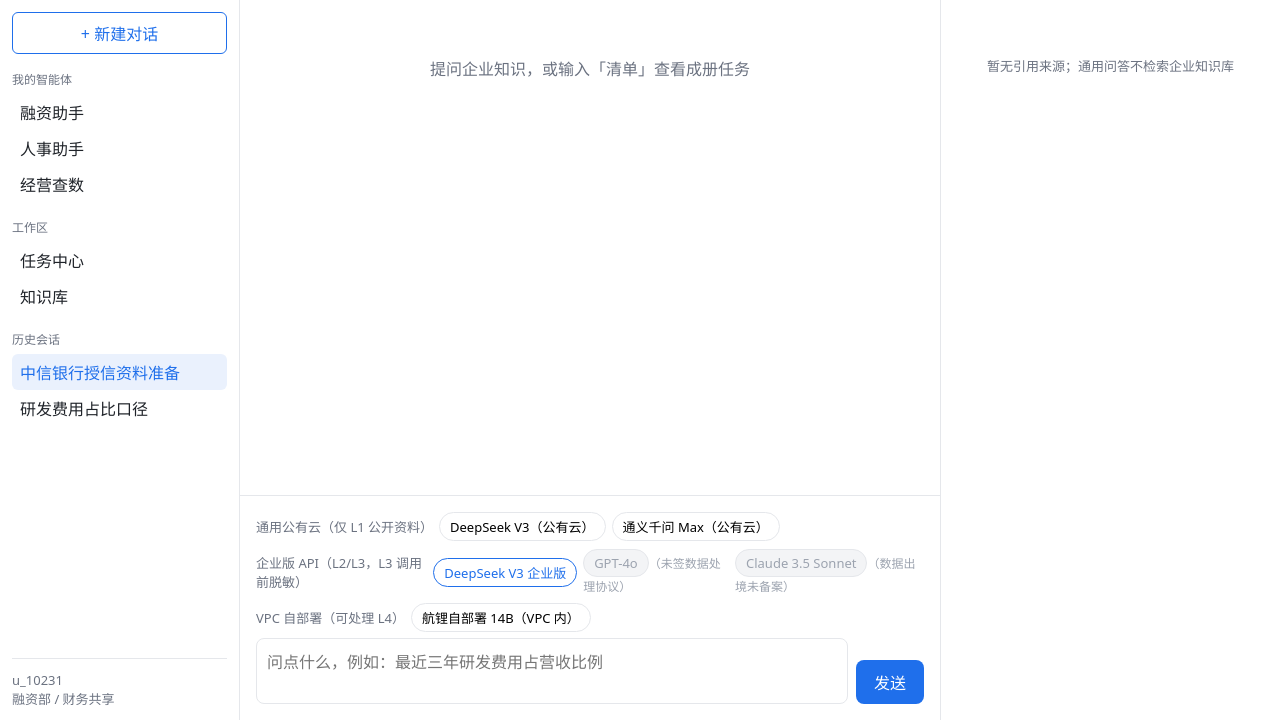
Scenario: 企业知识命中与引用溯源 › 顶部显示公司相关、检索范围与命中数
This screenshot has width=1280, height=720.
Type "最近三年研发费用占营收比例" into the text box named "输入问题" at (552, 671), box [256, 638, 848, 704]
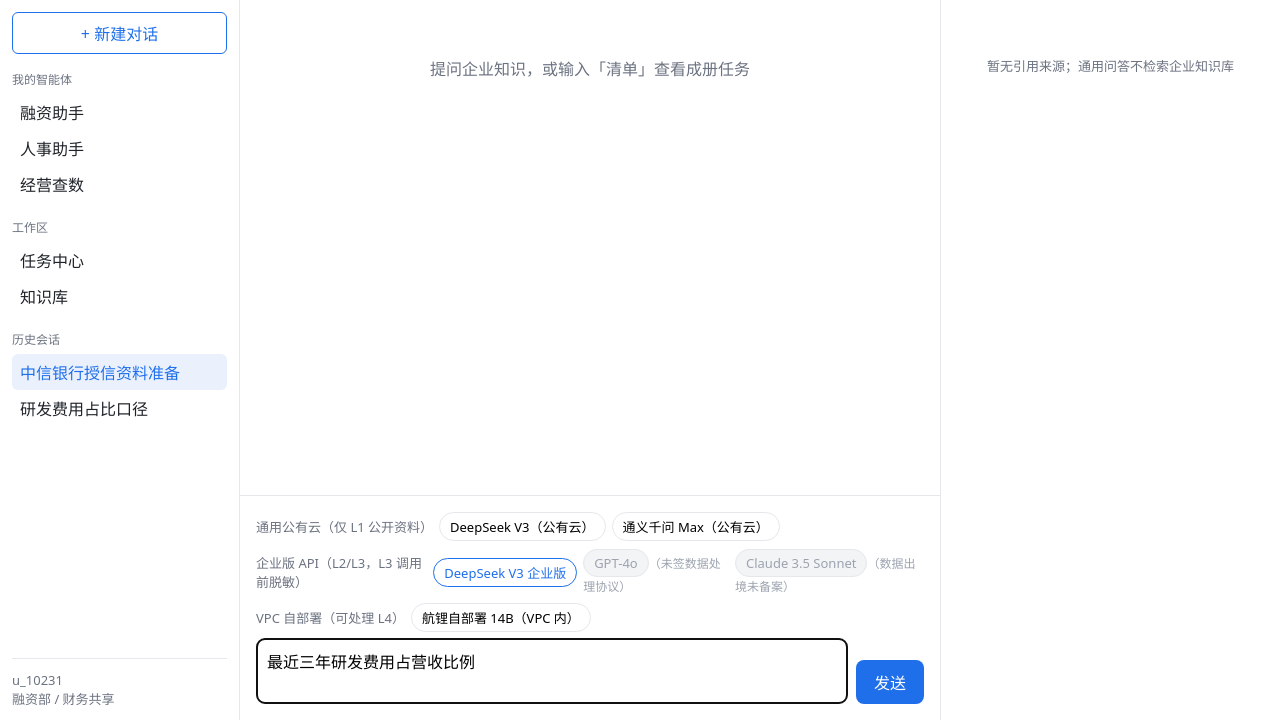
Click the button "发送" at (890, 682), box [856, 660, 924, 704]
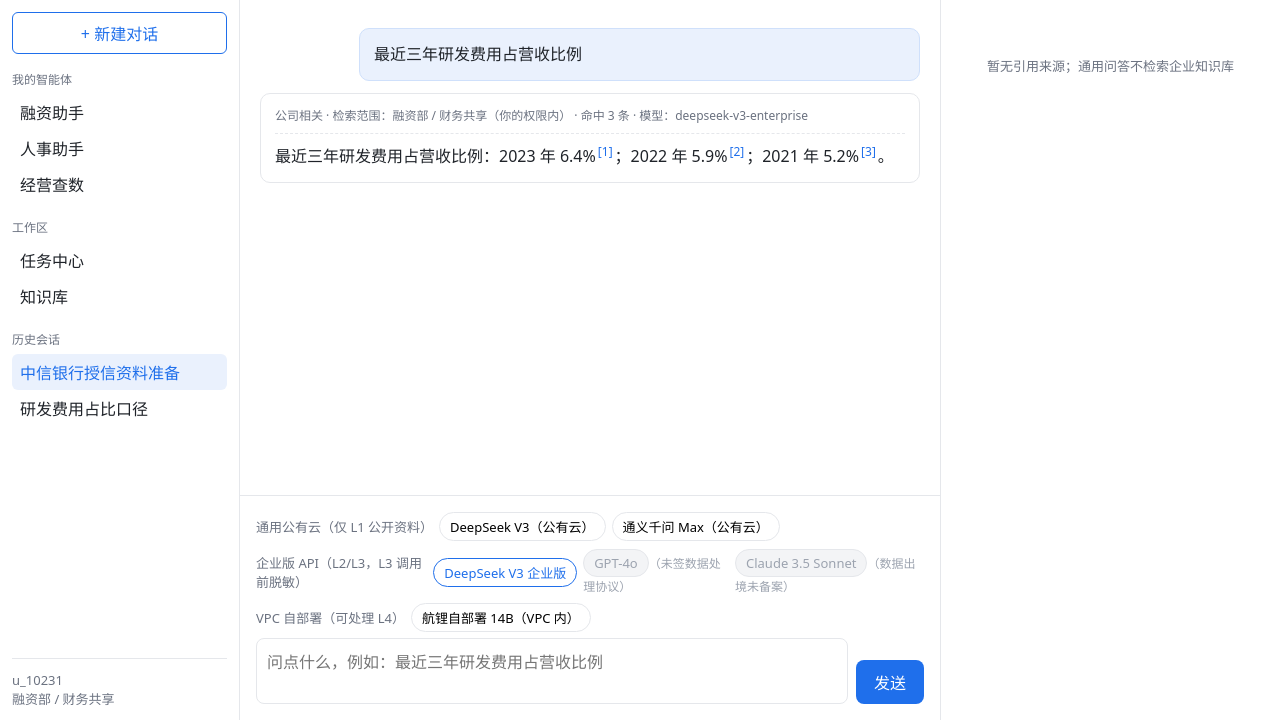
Check: the element with test id "right-pane" shows "暂无引用来源", box [987, 57, 1234, 75]
Check: the element with test id "msg-kb-hit" shows "公司相关 · 检索范围：融资部 / 财务共享（你的权限内） · 命中 3 条", box [260, 93, 920, 183]
